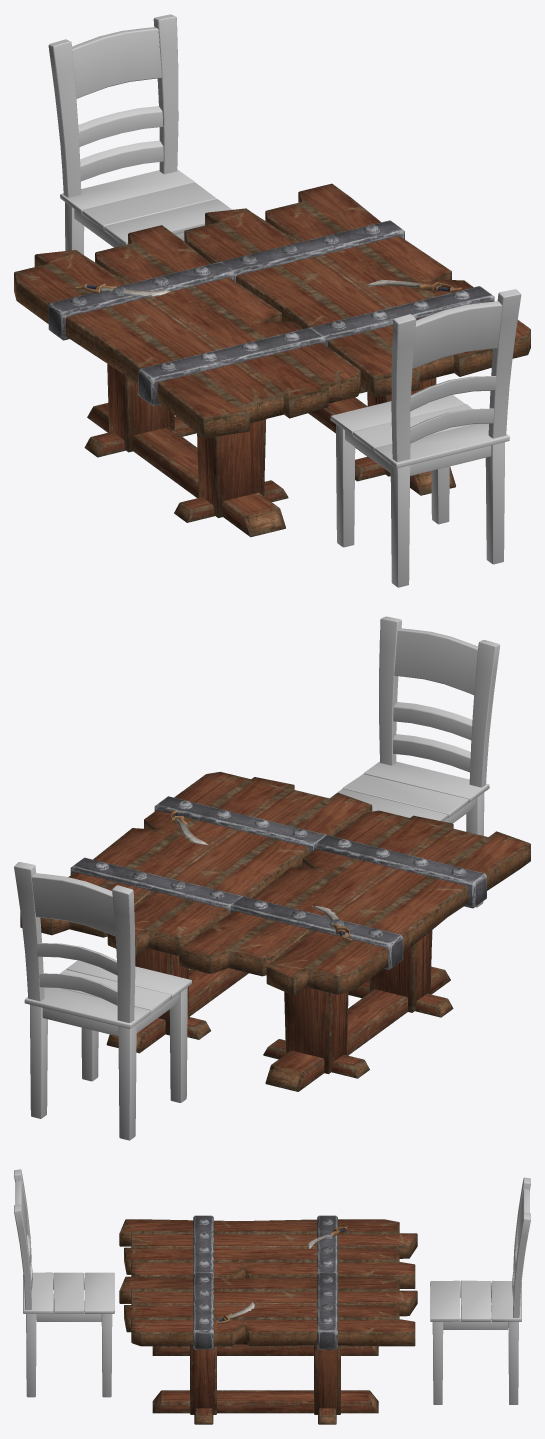
Rendered from stół1.gltf.
3 renders of one model, top to bottom at view 1: azimuth 30°, elevation 25°; view 2: azimuth 150°, elevation 25°; view 3: azimuth 270°, elevation 25°, orthographic. The views are drawn at different scales.
Visible parts, largest first — view 1: SM_MERGED_StaticMeshActor_UAID_581122BC1080963702_2103347979; view 2: SM_MERGED_StaticMeshActor_UAID_581122BC1080963702_2103347979; view 3: SM_MERGED_StaticMeshActor_UAID_581122BC1080963702_2103347979.
Boxes of the visible parts, box(x1,y1,x2,y2) form: SM_MERGED_StaticMeshActor_UAID_581122BC1080963702_2103347979: box(14, 14, 530, 587); SM_MERGED_StaticMeshActor_UAID_581122BC1080963702_2103347979: box(14, 616, 530, 1140); SM_MERGED_StaticMeshActor_UAID_581122BC1080963702_2103347979: box(14, 1169, 530, 1424).
Bounding box in the file's own units: 3.07 × 2.37 × 5.78.
